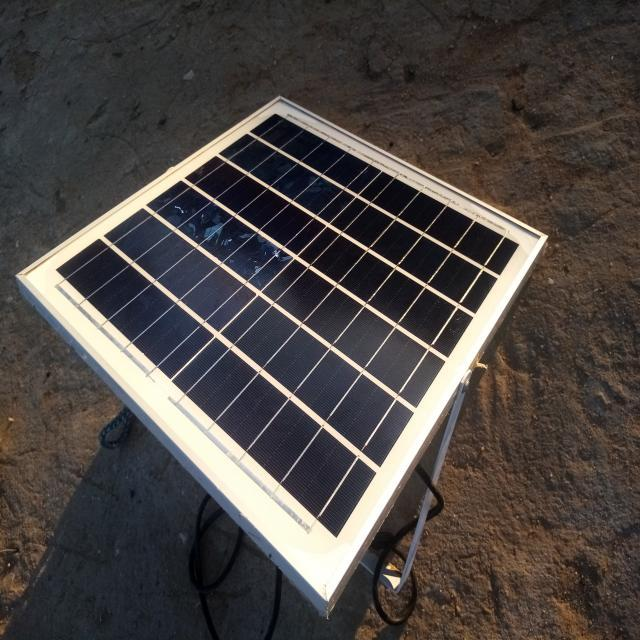no faulty: (20, 98, 551, 601)
